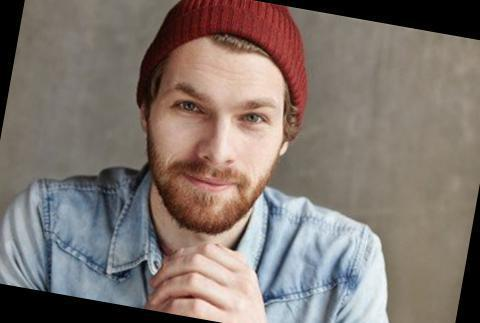Sober: (162, 54, 279, 210)
